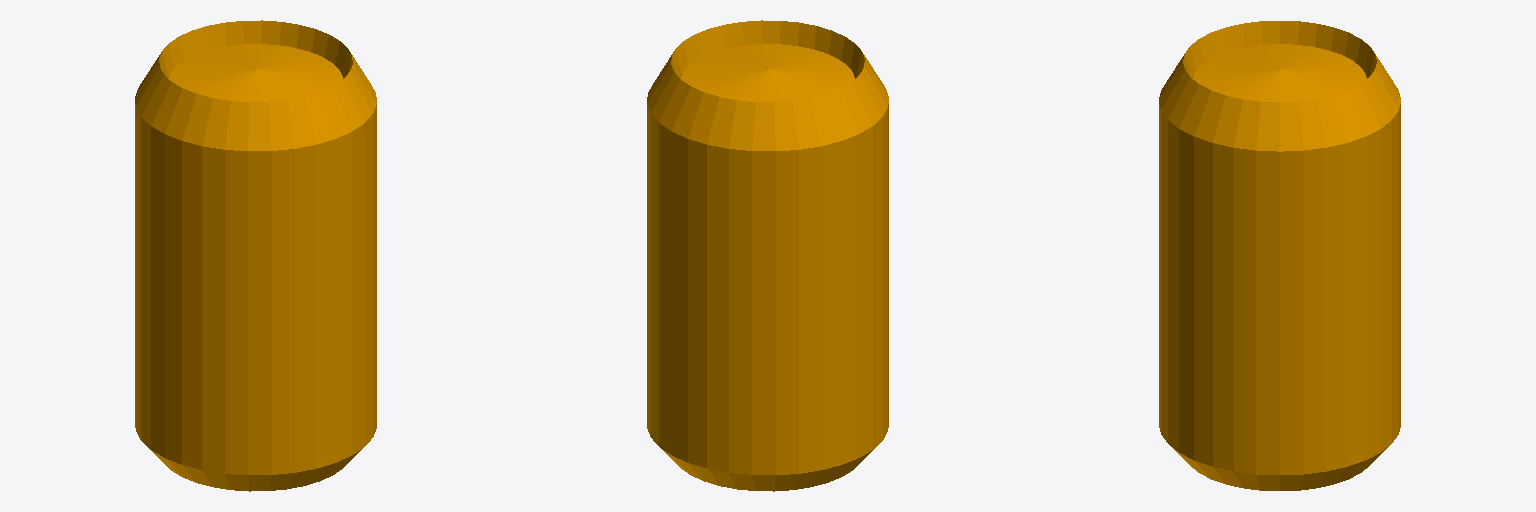
The robot description file, URDF, robot "coke_model":
<robot name="coke_model">
  <link name="coke">
    <inertial>
      <mass value="0.350000" />
      <origin xyz="0.033744 0.034684 0.061729"/>
      <inertia ixx="0.000469" ixy="0.000000" ixz="0.000000" iyy="0.000469" iyz="0.000000" izz="0.000197" />
    </inertial>
    <visual>
      <geometry>
        <mesh filename="package://manipulation_objects/meshes/coke.stl" />
      </geometry>
    </visual>
    <collision>
      <geometry>
        <mesh filename="package://manipulation_objects/meshes/coke.stl" />
      </geometry>
    </collision>
  </link>
  <gazebo reference="coke">
    <material>Gazebo/Grey</material>
  </gazebo>
</robot>

--- What the picture shows (computed from the rendered views, not written in the file) ---
The picture shows the robot from 3 angles, left to right: view 1: azimuth 30°, elevation 25°; view 2: azimuth 150°, elevation 25°; view 3: azimuth 270°, elevation 25°; orthographic projection.
Model coke_model with 1 links and 0 joints (none), rooted at coke, posed all joints at 0.
Links seen in each view (by area): view 1: coke; view 2: coke; view 3: coke.
Link boxes in pixels (x1,y1,x2,y2): coke: (135,20,376,491); coke: (647,20,888,491); coke: (1159,21,1400,490).
Bounding box of the posed robot: 0.0677 × 0.0677 × 0.1206 m (x, y, z).
1 mesh visuals loaded from 1 distinct referenced files (1 binary STL).
